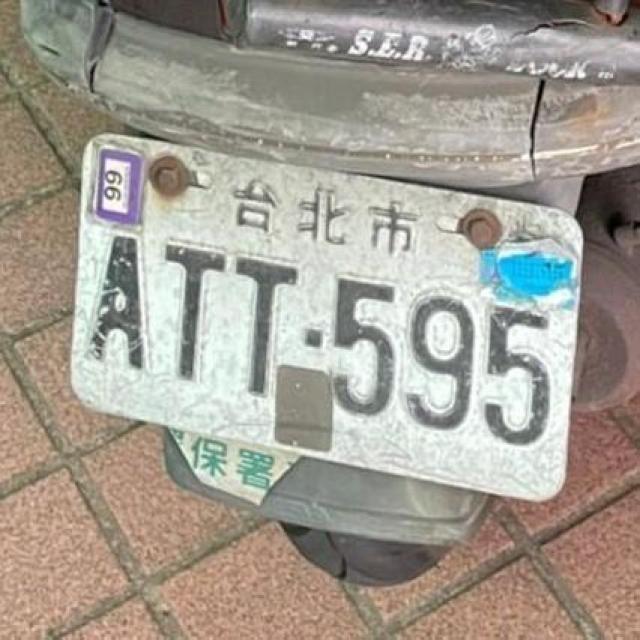W: (65, 131, 585, 505)
